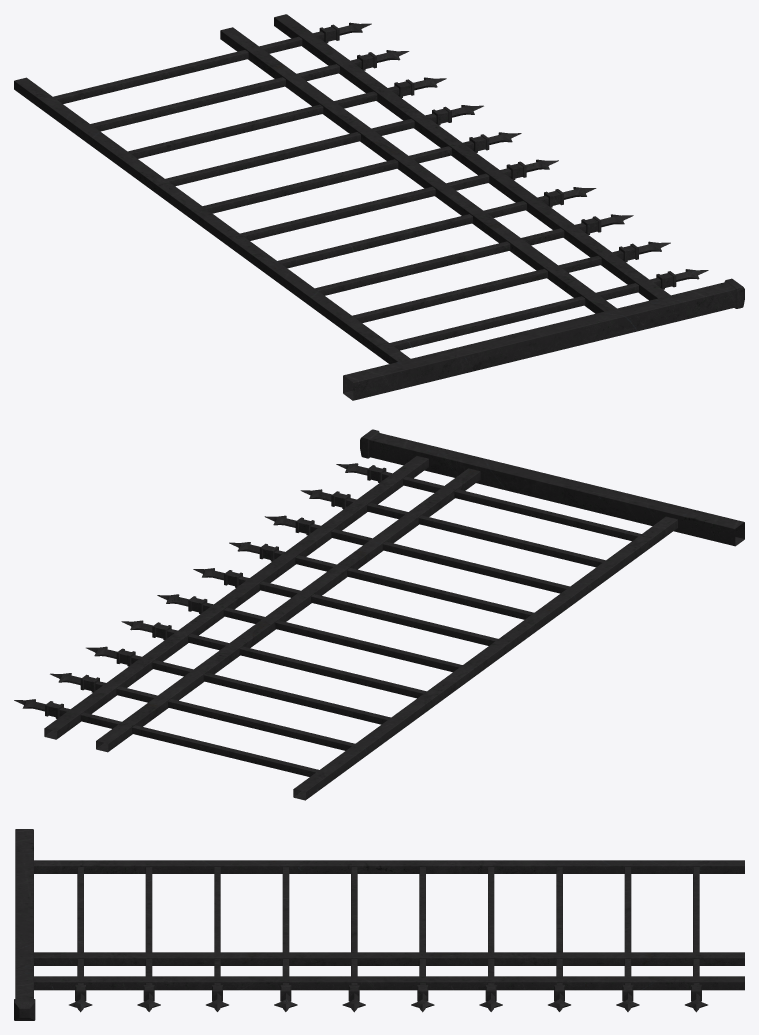
The model's file is cP_Fence02.dae.
The picture shows the model from 3 angles, top to bottom: view 1: azimuth 30°, elevation 25°; view 2: azimuth 150°, elevation 25°; view 3: azimuth 270°, elevation 25°; orthographic projection. The views are drawn at different scales.
Visible parts, largest first — view 1: cP_Fence02.001; view 2: cP_Fence02.001; view 3: cP_Fence02.001.
Boxes of the visible parts, <box> form: cP_Fence02.001: <box>14,14,744,400</box>; cP_Fence02.001: <box>14,429,744,800</box>; cP_Fence02.001: <box>14,829,744,1020</box>.
Size of the model in its own units: 2.28 by 4.01 by 0.1165.
